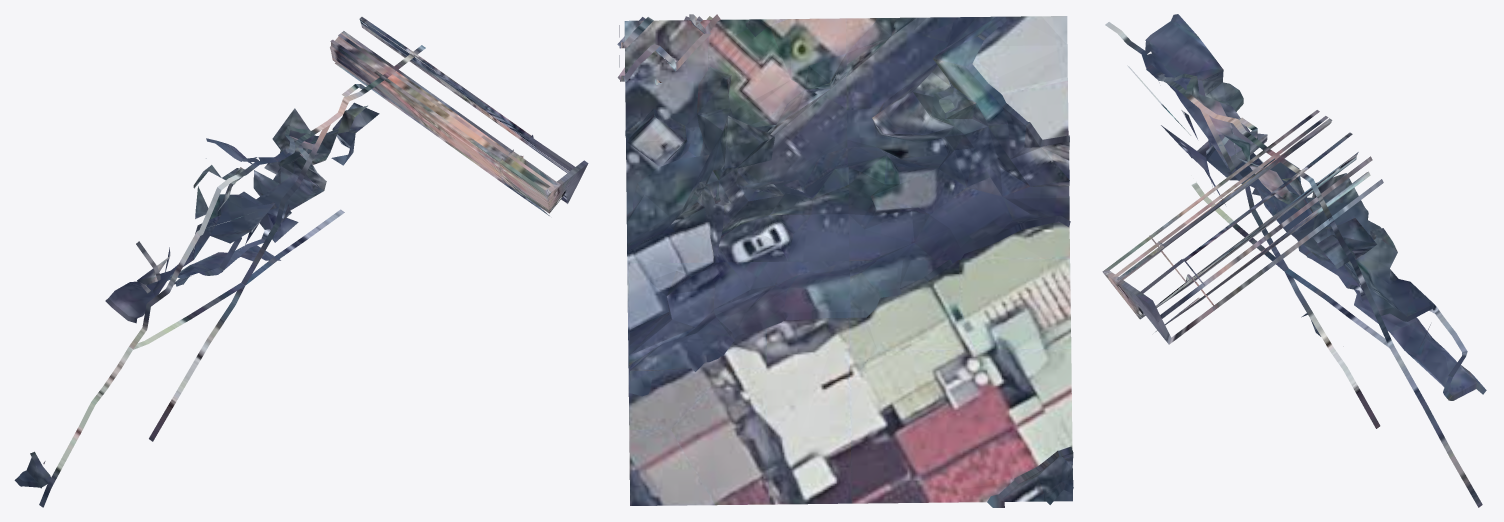
3 views of the same model, side by side, from view 1: azimuth 30°, elevation 25°; view 2: azimuth 150°, elevation 25°; view 3: azimuth 270°, elevation 25° (orthographic). The views are drawn at different scales.
Size of the model in its own units: 48.96 by 37.11 by 32.51.
Materials: 2 (2 with a texture image).
